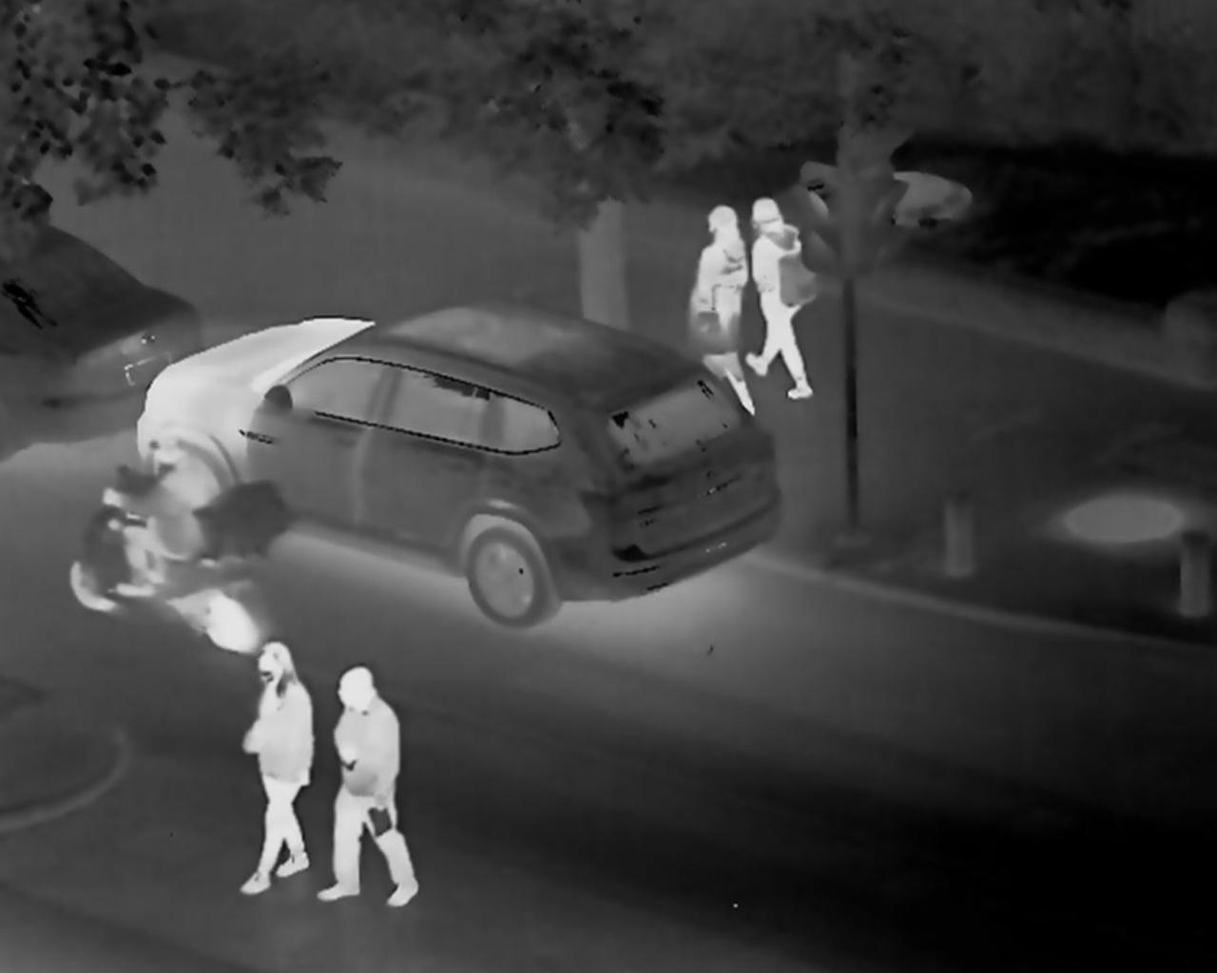person: (314, 660, 422, 907), (98, 420, 214, 599), (236, 634, 314, 894), (686, 200, 758, 419), (749, 192, 819, 401)
